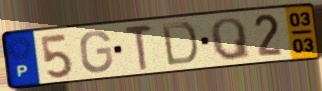2: (253, 12, 284, 57)
5: (38, 31, 75, 80)
D: (160, 21, 201, 68)
G: (79, 29, 115, 75)
Q: (208, 16, 254, 62)
T: (122, 23, 155, 72)
